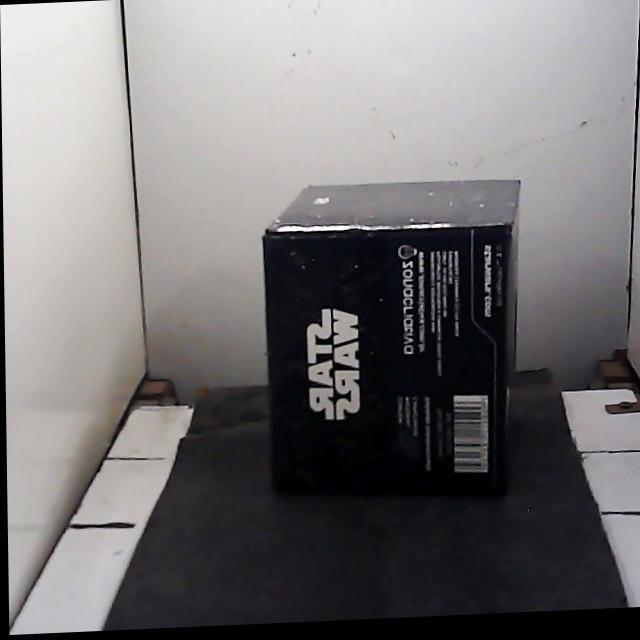papel: (263, 180, 518, 492)
